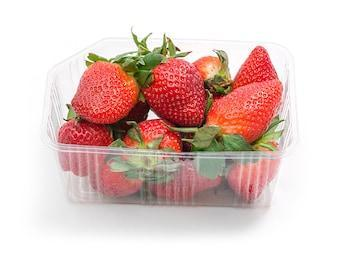Fresa: (204, 77, 285, 145), (138, 54, 208, 129), (70, 57, 142, 127), (56, 113, 115, 180), (121, 117, 183, 169), (234, 42, 281, 97)
